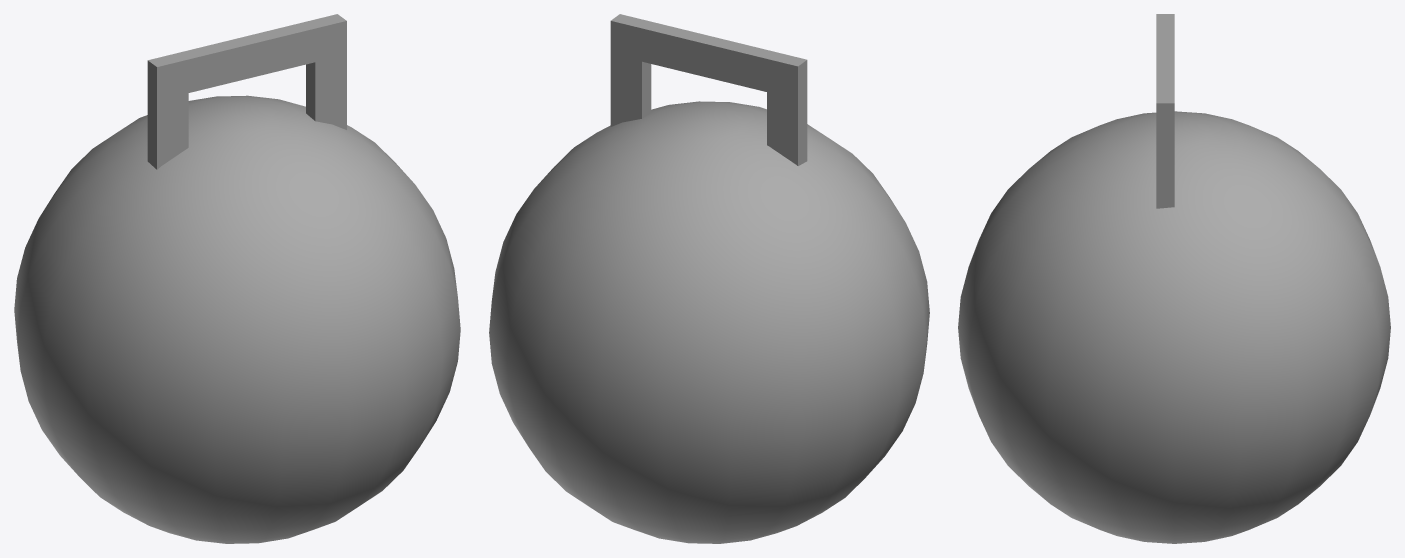
File: pesa.obj
The picture shows the model from 3 angles, left to right: view 1: azimuth 30°, elevation 25°; view 2: azimuth 150°, elevation 25°; view 3: azimuth 270°, elevation 25°; orthographic projection. The views are drawn at different scales.
Parts seen in each view (by area): view 1: pasted__Handle3; view 2: pasted__Handle3; view 3: pasted__Handle3.
Boxes of the visible parts, x1=… form: pasted__Handle3: x1=14, y1=14, x2=460, y2=543; pasted__Handle3: x1=489, y1=14, x2=929, y2=543; pasted__Handle3: x1=958, y1=14, x2=1390, y2=543.
Bounding box in the file's own units: 1.7 × 2.02 × 1.7.
2 materials, 2 textured.
